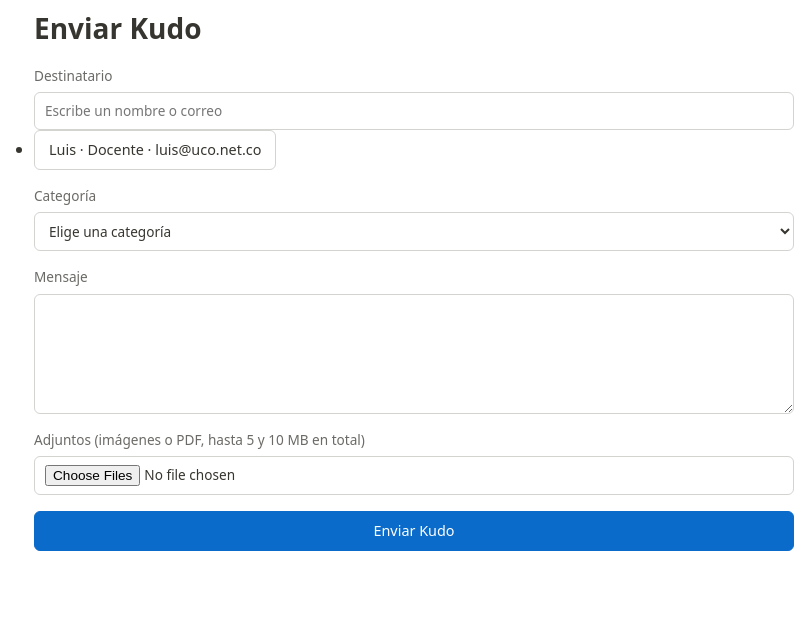
Test: asks to choose a recipient before sending
This screenshot has width=811, height=630.
Select "Empatía" in the dropdown labelled "Categoría" at (414, 232), box [34,212,794,251]
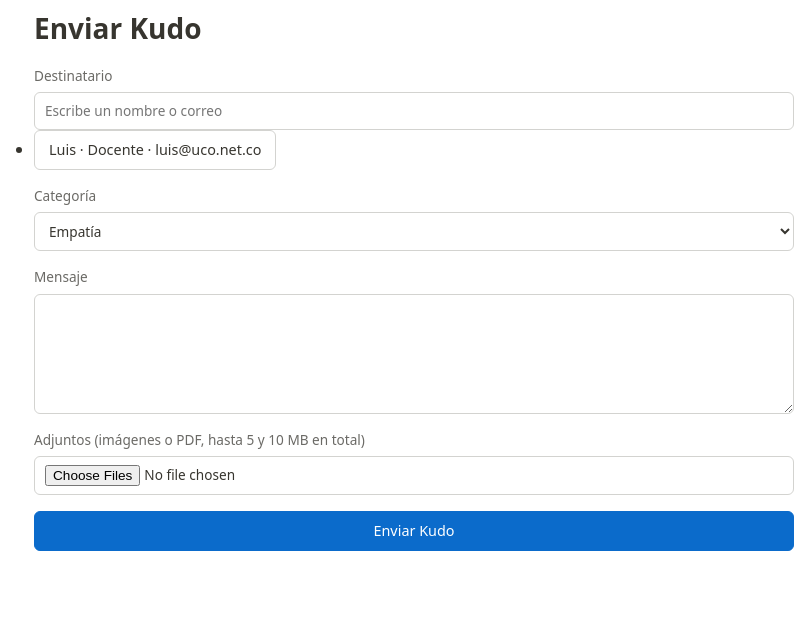
Type "Hola" into the text box labelled "Mensaje".
click(414, 354); type("Hola")  # box [34,294,794,414]
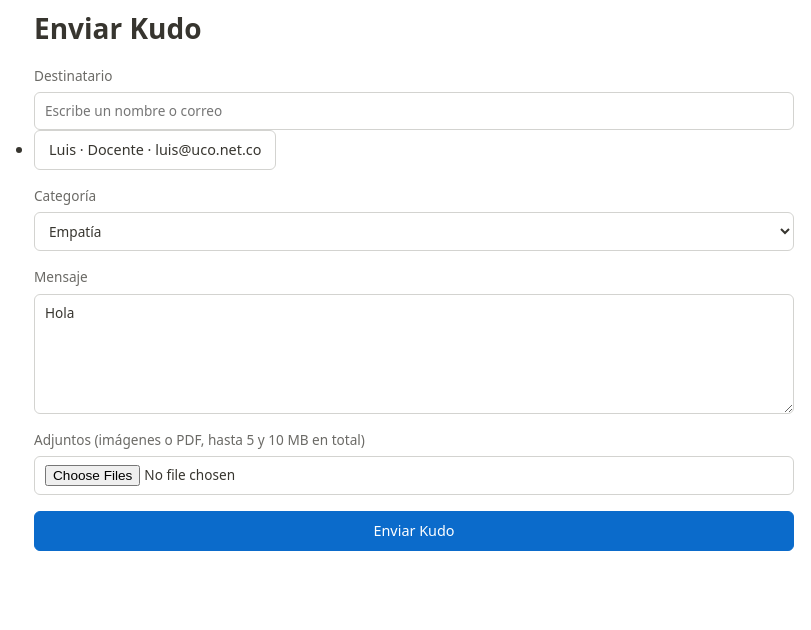
Click the button "Enviar Kudo".
click(414, 531)  # box [34,511,794,551]
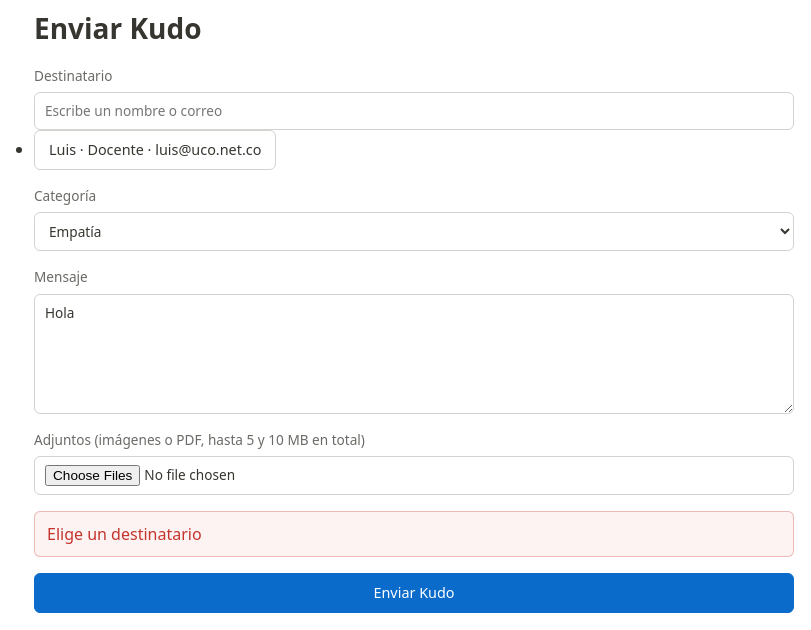
expect the message reads "Elige un destinatario": met, box [47,523,202,545]
